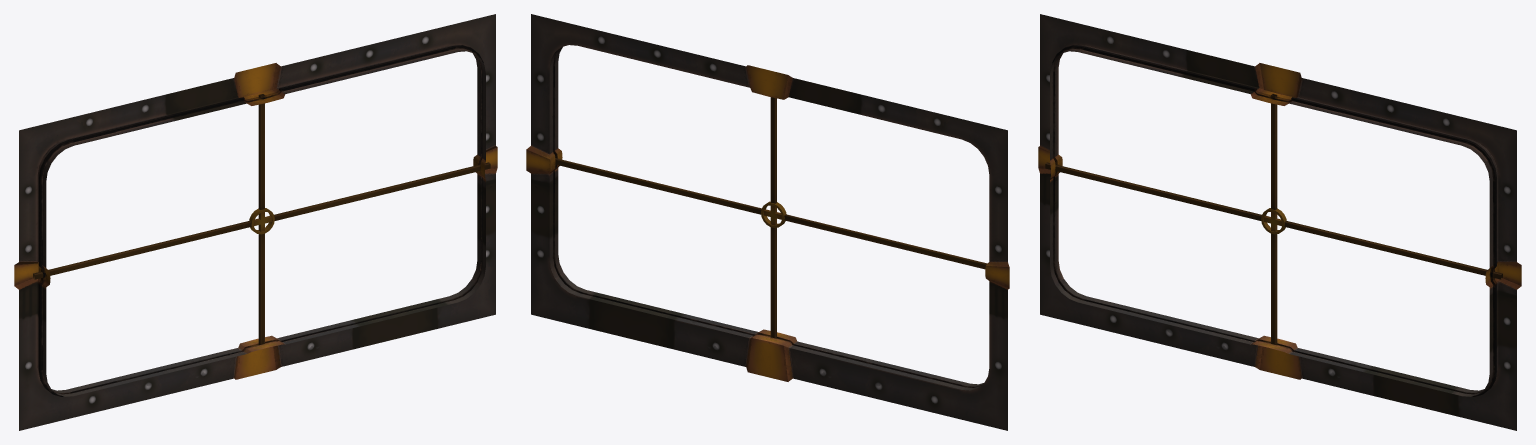
File: ReticleBars_v2.fbx
3 renders of one model, left to right at view 1: azimuth 30°, elevation 25°; view 2: azimuth 150°, elevation 25°; view 3: azimuth 330°, elevation 25°, orthographic.
Visible parts, largest first — view 1: Frame, HorizontalBar_Left, HorizontalBar_Right, VerticalBar_Bottom, VerticalBar_Top, Crosshair; view 2: Frame, HorizontalBar_Left, HorizontalBar_Right, VerticalBar_Bottom, VerticalBar_Top, Crosshair; view 3: Frame, HorizontalBar_Right, HorizontalBar_Left, VerticalBar_Bottom, VerticalBar_Top, Crosshair.
Part boxes in pixels (box(x1,y1,x2,y2)): Frame: box(14, 14, 497, 430); HorizontalBar_Left: box(274, 162, 490, 220); HorizontalBar_Right: box(33, 220, 251, 279); VerticalBar_Bottom: box(258, 233, 264, 344); VerticalBar_Top: box(258, 94, 264, 210); Crosshair: box(249, 208, 274, 234); Frame: box(526, 14, 1009, 430); HorizontalBar_Left: box(555, 158, 761, 214); HorizontalBar_Right: box(784, 214, 987, 269); VerticalBar_Bottom: box(770, 227, 776, 338); VerticalBar_Top: box(770, 97, 776, 203); Crosshair: box(761, 201, 786, 227); Frame: box(1038, 14, 1521, 430); HorizontalBar_Right: box(1045, 162, 1261, 220); HorizontalBar_Left: box(1284, 220, 1502, 279); VerticalBar_Bottom: box(1271, 233, 1277, 344); VerticalBar_Top: box(1271, 94, 1277, 210); Crosshair: box(1261, 208, 1286, 234).
Size of the model in its own units: 1.81 by 1.1 by 0.0758.
